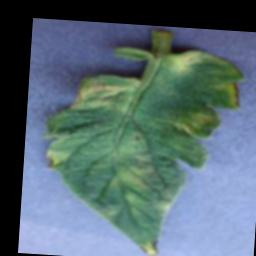Leaf_Mold: (71, 82, 129, 113), (163, 47, 213, 78), (43, 149, 68, 172), (224, 83, 241, 108), (138, 238, 160, 256)
